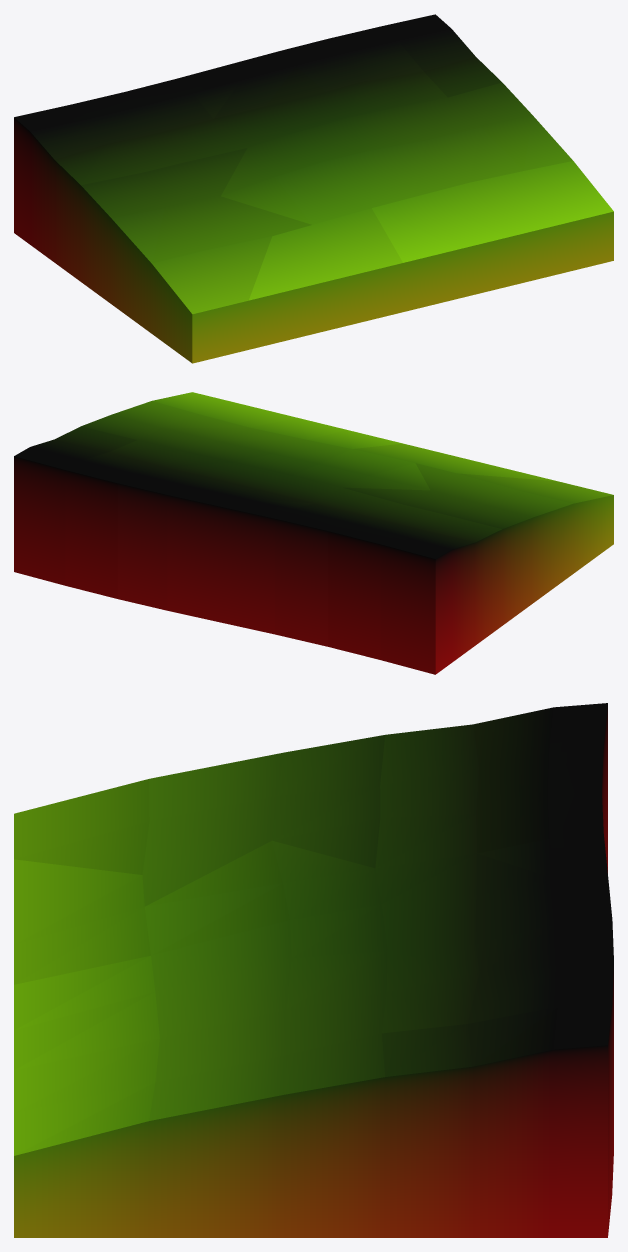
Rendered from SM_ShallowShelf_01.fbx.
3 views of the same model, one above another, from view 1: azimuth 30°, elevation 25°; view 2: azimuth 150°, elevation 25°; view 3: azimuth 270°, elevation 25° (orthographic). The views are drawn at different scales.
Parts seen in each view (by area): view 1: SM_ShallowShelf_01; view 2: SM_ShallowShelf_01; view 3: SM_ShallowShelf_01.
Part boxes in pixels (x1,y1,x2,y2): SM_ShallowShelf_01: [14, 14, 613, 363]; SM_ShallowShelf_01: [14, 392, 613, 674]; SM_ShallowShelf_01: [14, 703, 613, 1237].
Bounding box in the file's own units: 6 × 4.45 × 1.57.
